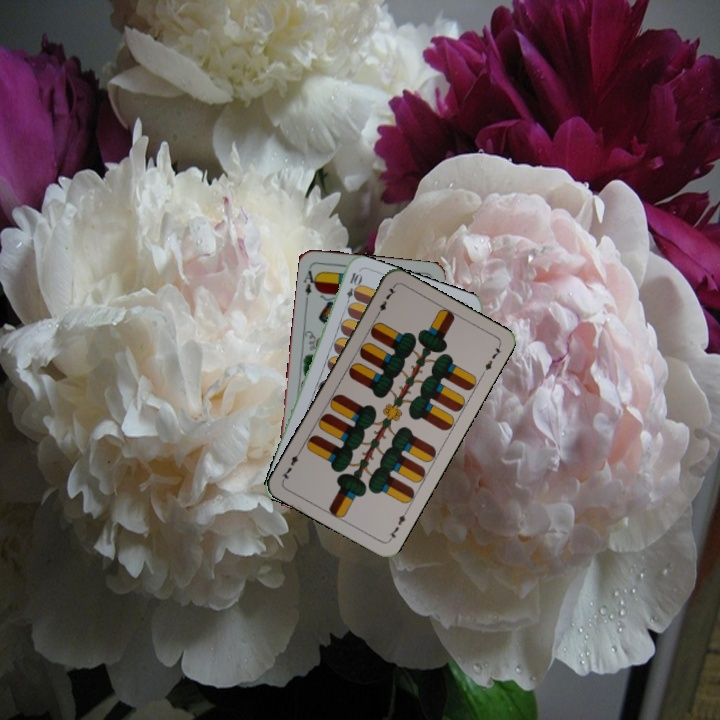E10: (342, 268, 363, 309)
E7: (372, 282, 399, 320), (385, 506, 410, 543)
EA: (300, 266, 320, 298)
